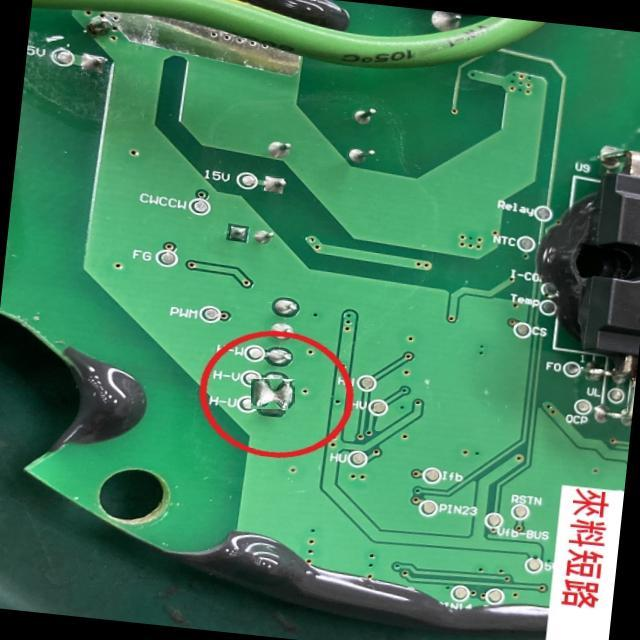Short_circuit: (251, 379, 294, 409)
